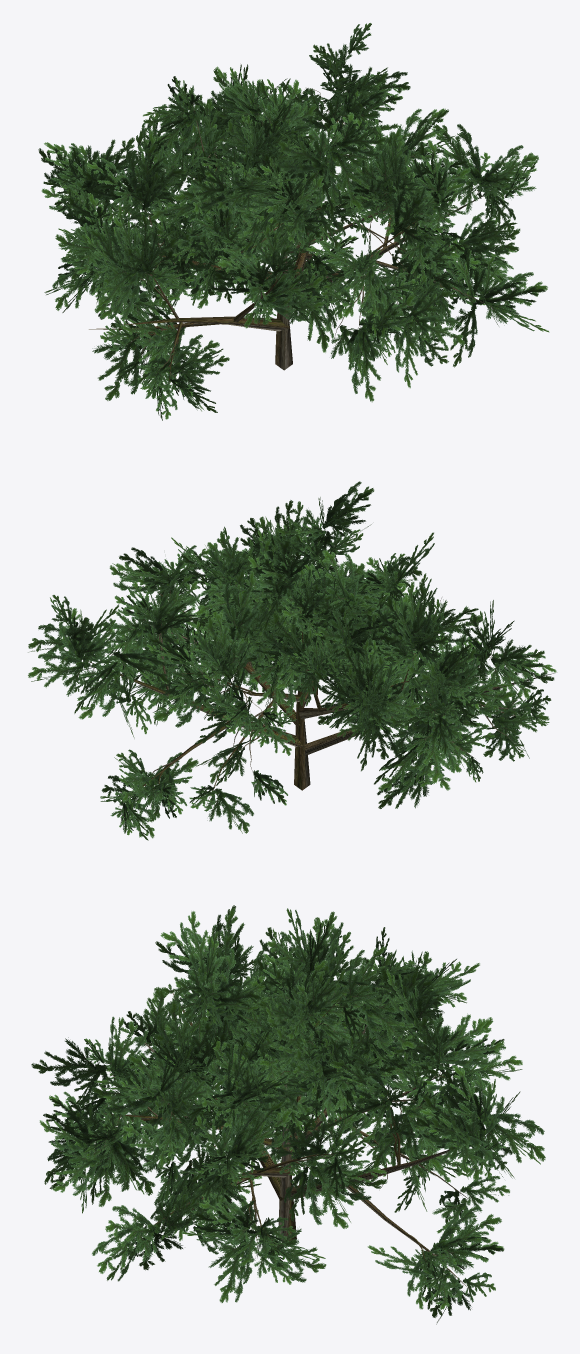
The model's file is Arbusto.glb.
3 views of the same model, one above another, from view 1: azimuth 30°, elevation 25°; view 2: azimuth 150°, elevation 25°; view 3: azimuth 270°, elevation 25° (orthographic). The views are drawn at different scales.
Size of the model in its own units: 31.95 by 22.15 by 29.48.
2 materials, 2 textured.
